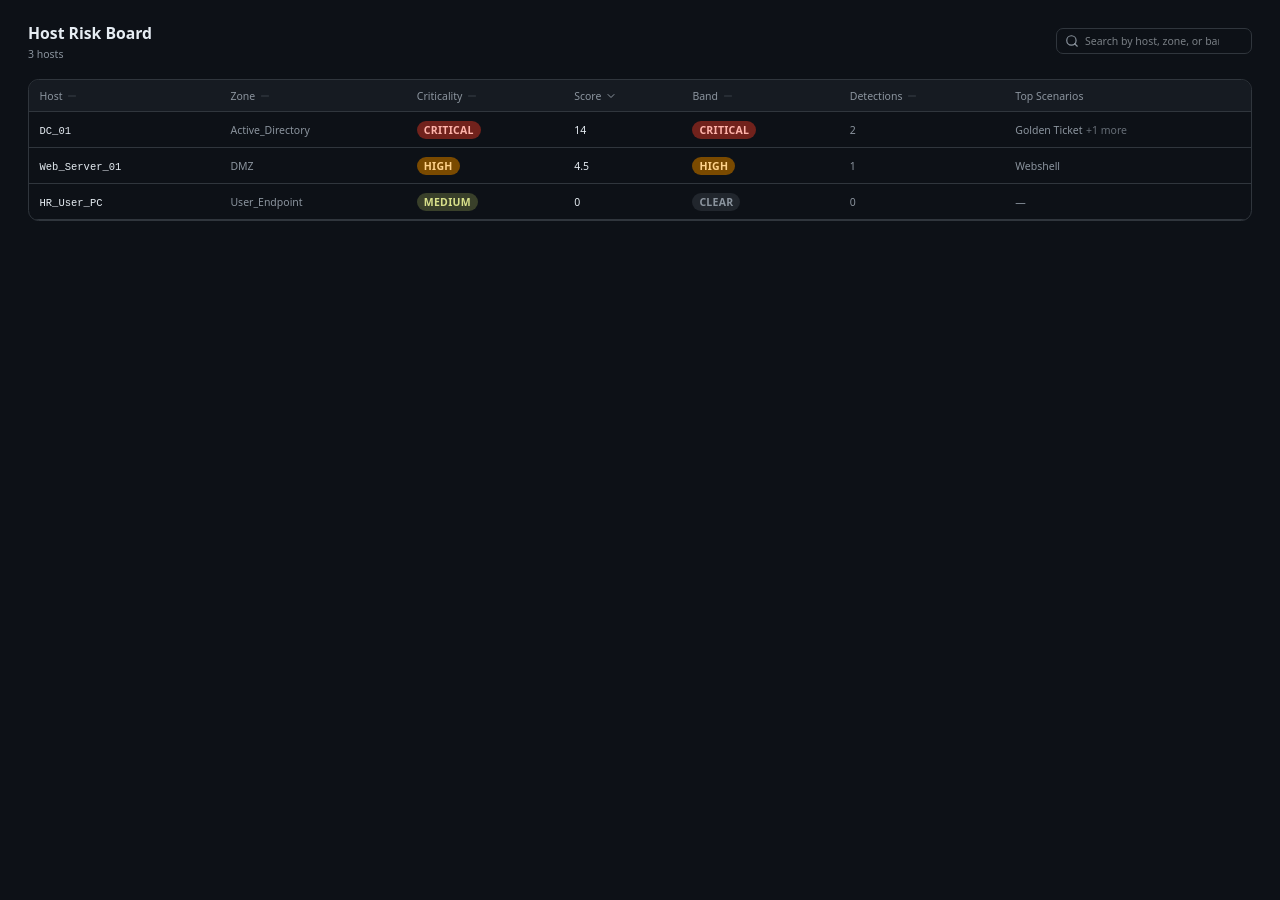
Test: HostRisk page › opens the drawer with the FULL top_scenarios list (row truncates it)
The width and height of the screenshot is (1280, 900).
Step 1. Click the button "DC_01" → (55, 131), box [40,124,71,138]
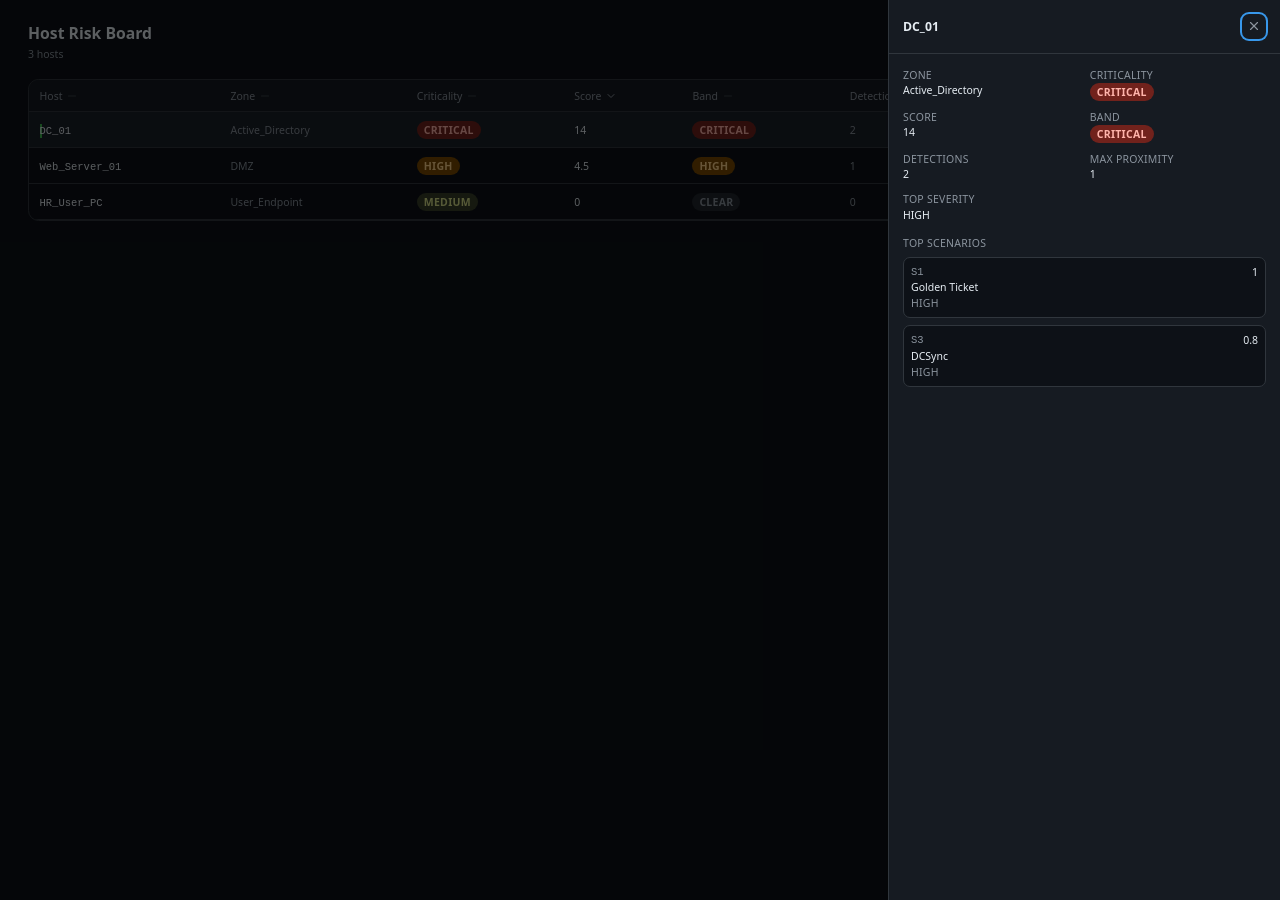
Now the text "Golden Ticket" is shown, box [911,280,978,294]
Now the text "DCSync" is shown, box [911,349,948,363]
Now the text "1" below "Max proximity" is shown, box [1090,167,1096,181]
